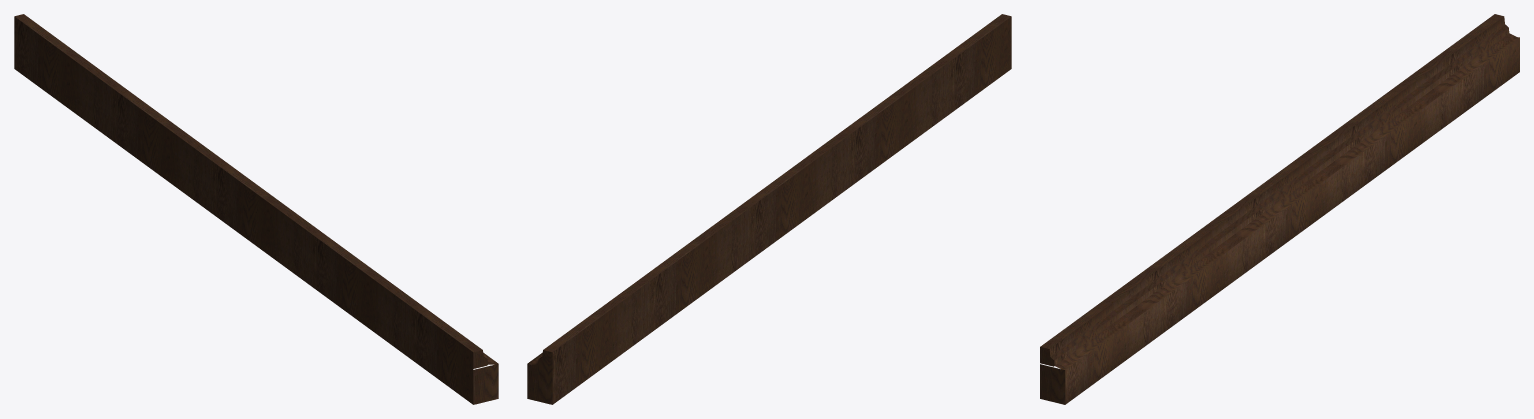
The model's file is souptrim004.glb.
The picture shows the model from 3 angles, left to right: view 1: azimuth 30°, elevation 25°; view 2: azimuth 150°, elevation 25°; view 3: azimuth 330°, elevation 25°; orthographic projection.
Visible parts, largest first — view 1: souptrim004_high_1; view 2: souptrim004_high_1; view 3: souptrim004_high_1.
Boxes of the visible parts, left/top/right/bottom form: souptrim004_high_1: left=14, top=14, right=498, bottom=404; souptrim004_high_1: left=527, top=14, right=1011, bottom=404; souptrim004_high_1: left=1040, top=14, right=1519, bottom=404.
Bounding box in the file's own units: 0.0861 × 0.1712 × 2.71.
Materials: 1 (1 with a texture image).
